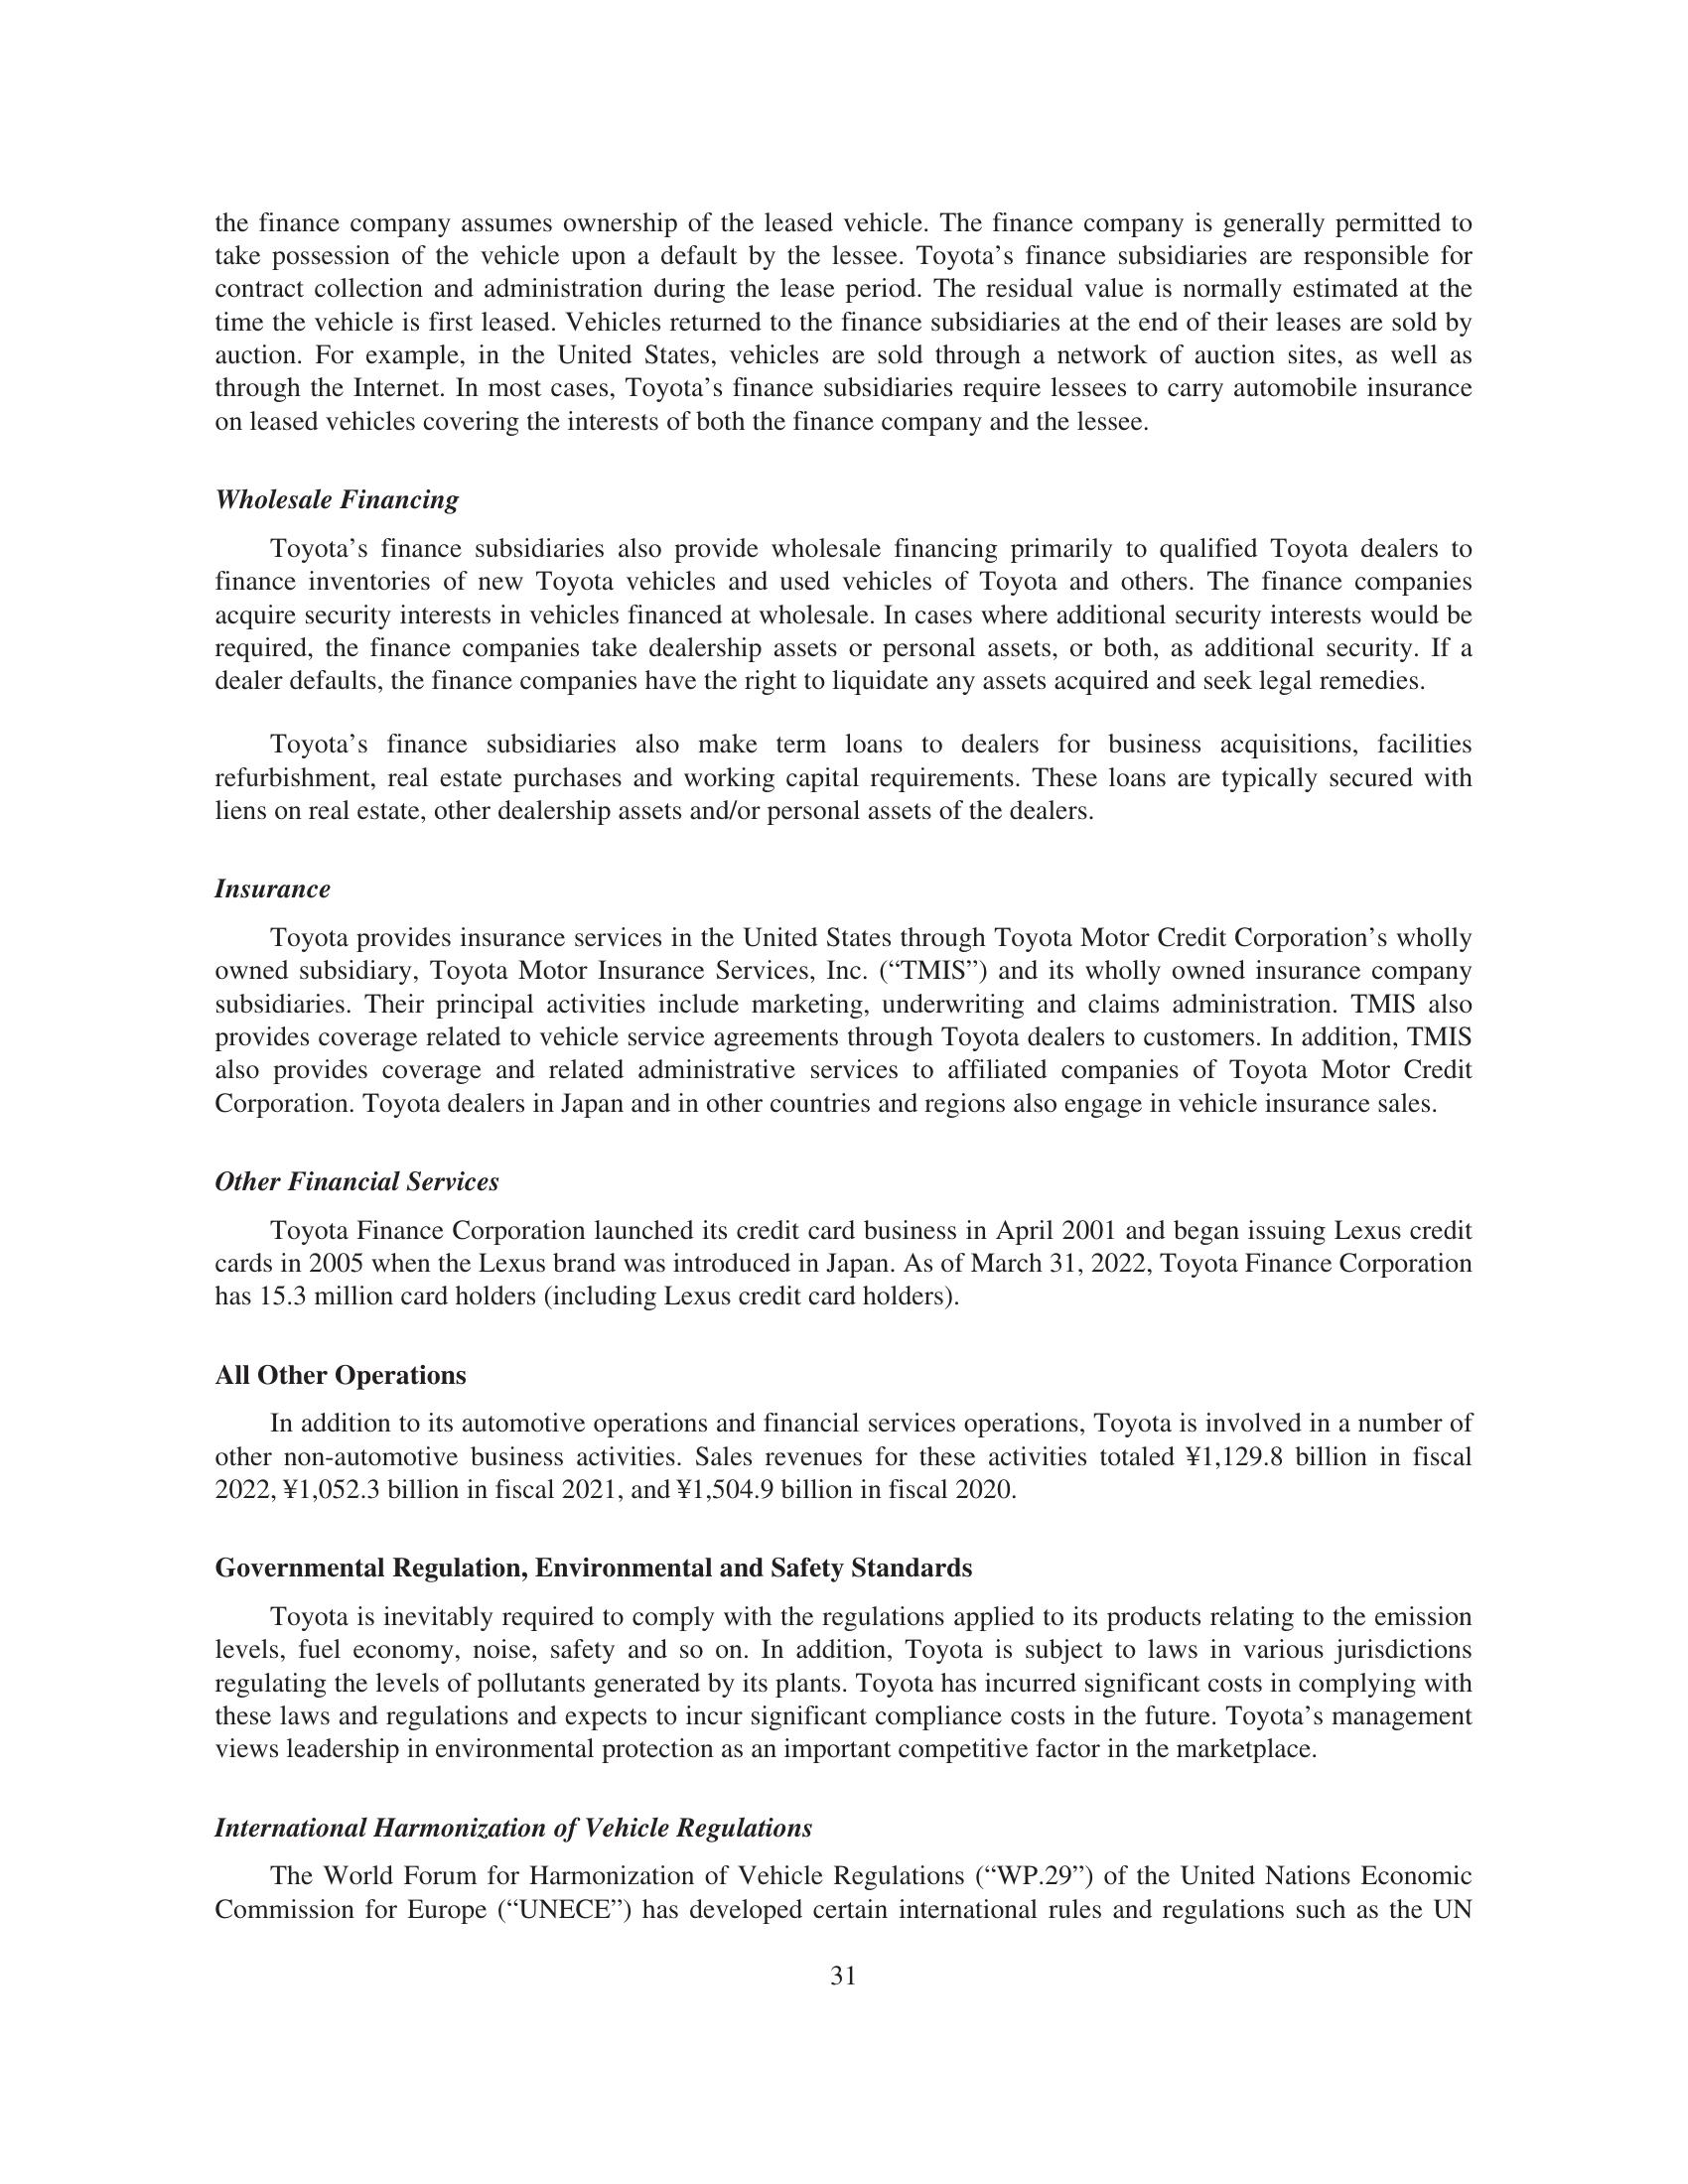Footer: (2, 1941, 1688, 2184)
Header: (0, 0, 1688, 183)
